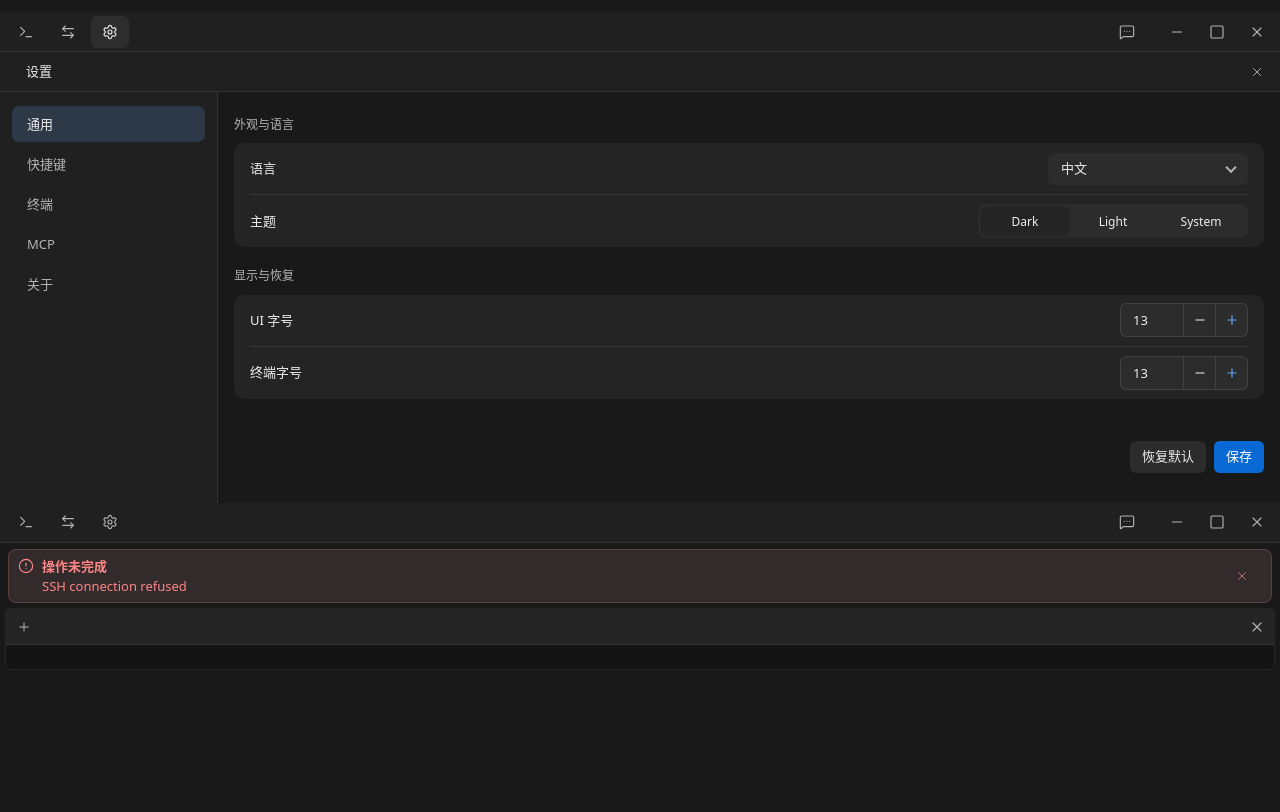
AppShell › lets users dismiss a terminal operation error
The image size is (1280, 812).
Expected: the message with class "zt-main-error" shows "操作未完成", [42,557,107,575]
Expected: the message with class "zt-main-error" shows "SSH connection refused", [42,577,187,595]
Click the button named "关闭终端错误提示" at (1242, 576), box [1230,564,1254,588]
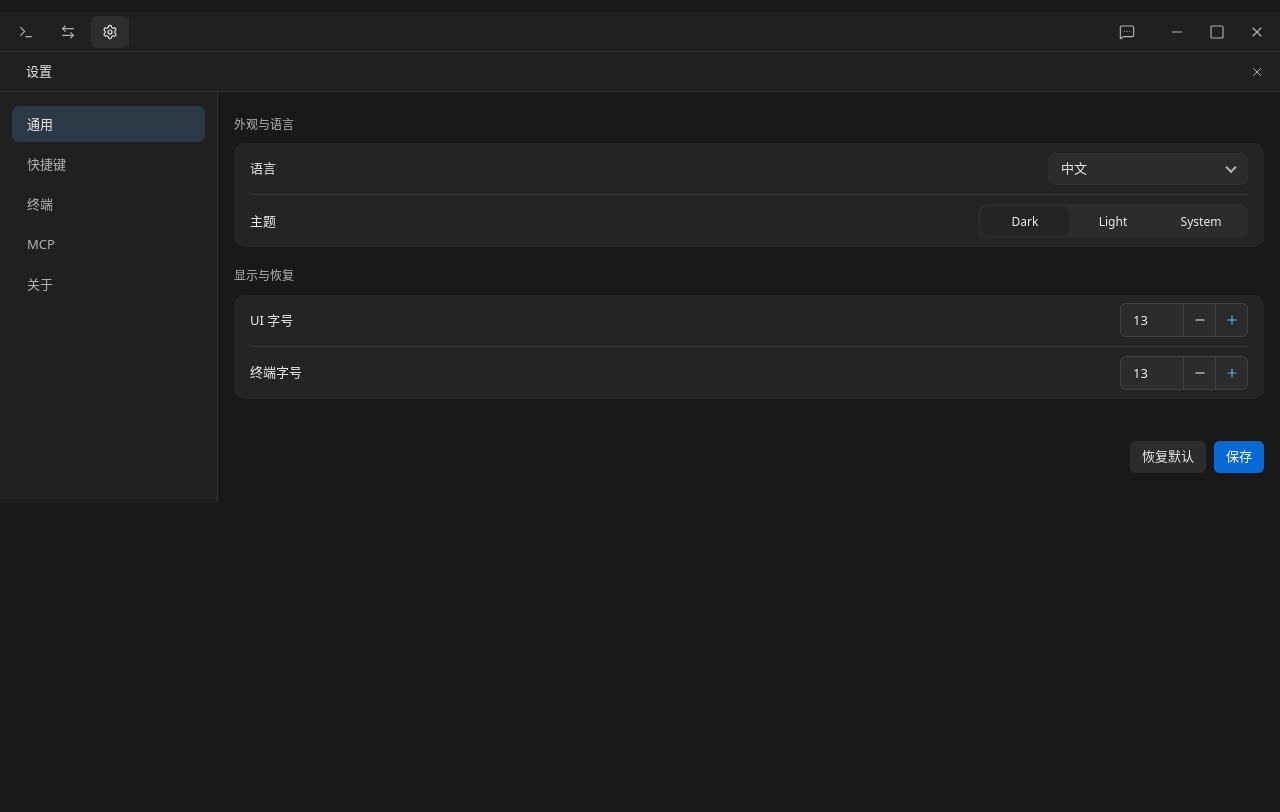
Expected: the message with class "zt-main-error" is gone
